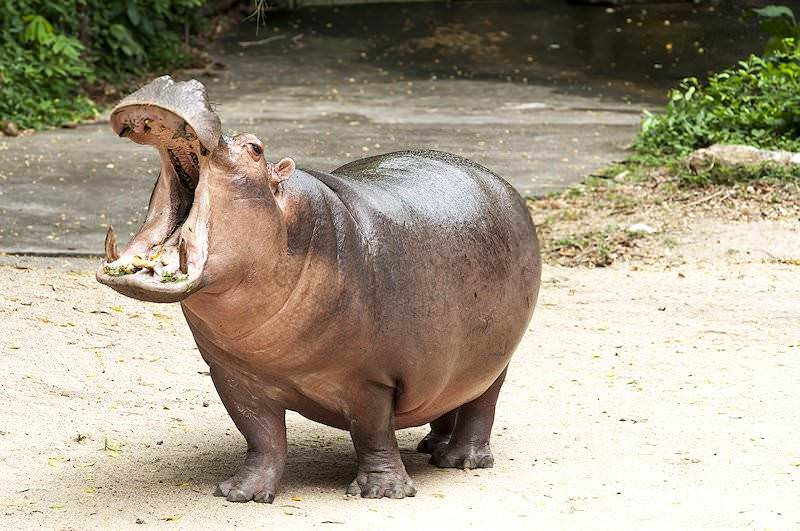Hippopotamus: (95, 71, 541, 506)
